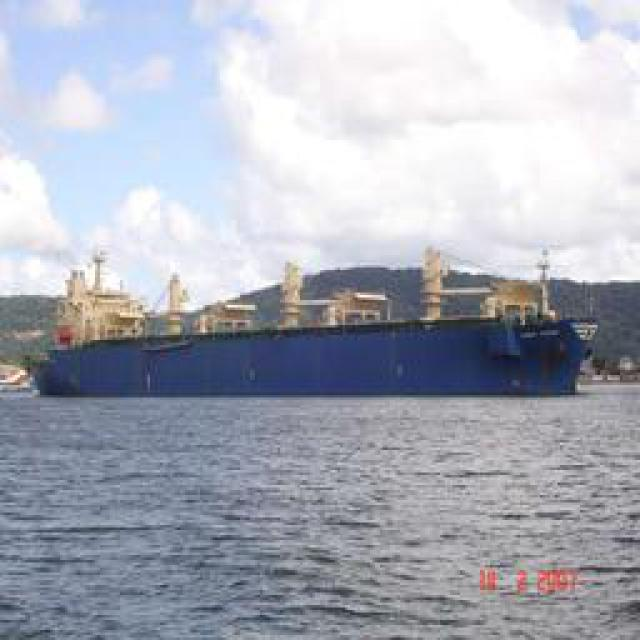Ship: (26, 307, 601, 400)
